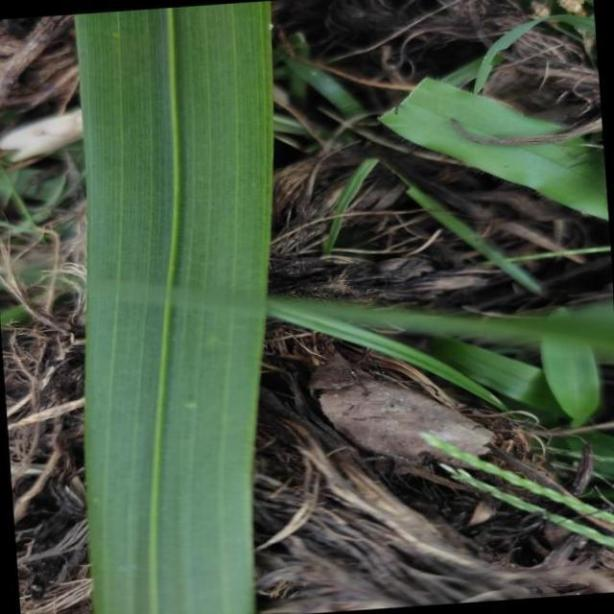Healthy: (75, 3, 273, 614)
